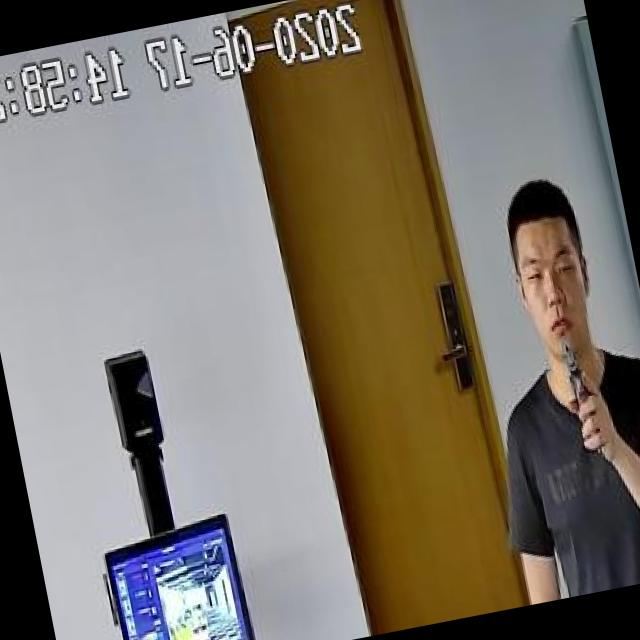Guns: (551, 328, 606, 439)
